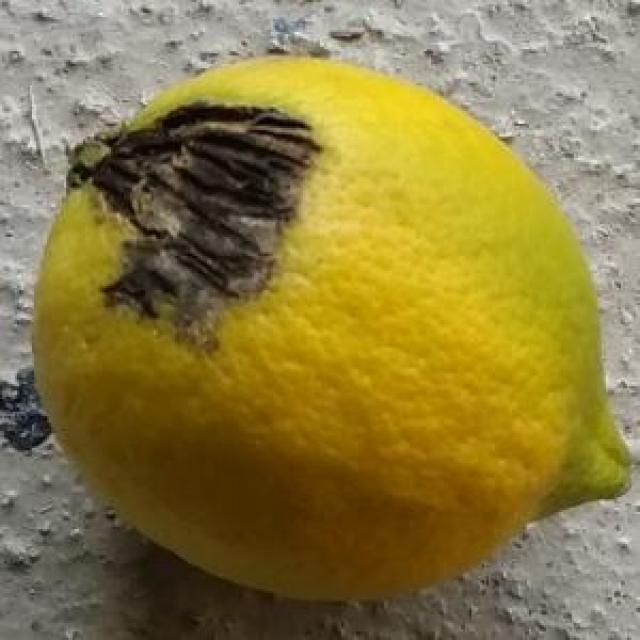lemon: (22, 48, 632, 604)
